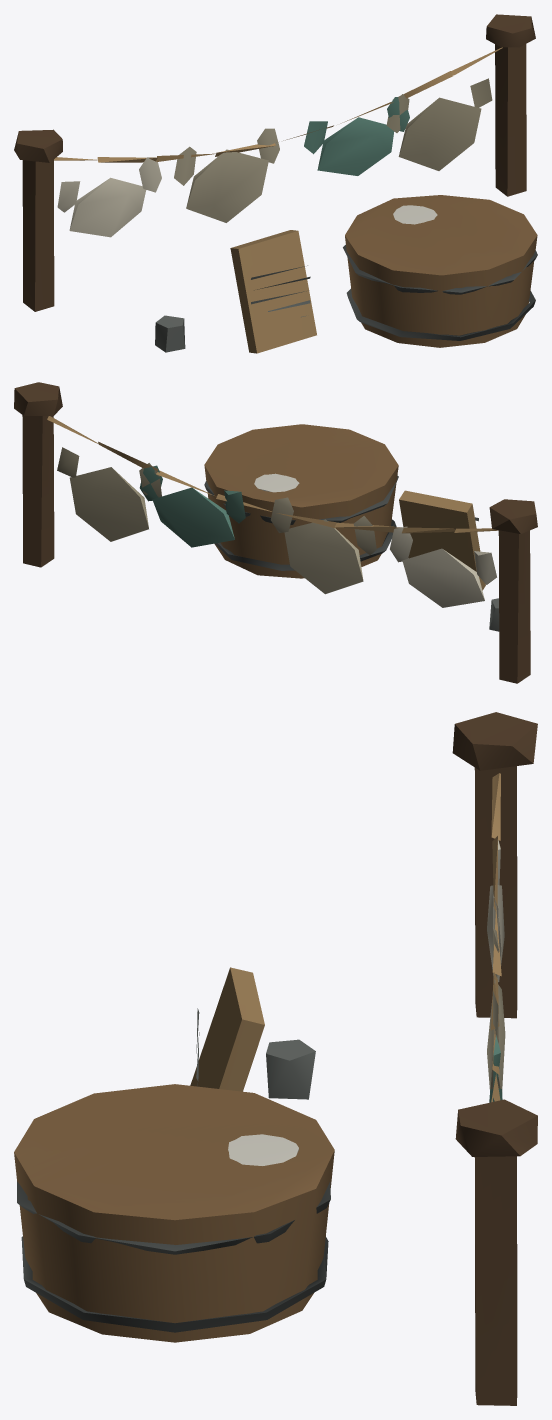
File: washline_a_lod2.glb
3 views of the same model, one above another, from view 1: azimuth 30°, elevation 25°; view 2: azimuth 150°, elevation 25°; view 3: azimuth 270°, elevation 25° (orthographic). The views are drawn at different scales.
Parts seen in each view (by area): view 1: Surface.001; view 2: Surface.001; view 3: Surface.001.
Boxes of the visible parts, x1,y1,x2,y2 form: Surface.001: (14,14,537,353); Surface.001: (14,382,537,683); Surface.001: (14,712,537,1405).
Size of the model in its own units: 4.37 by 1.46 by 2.28.
